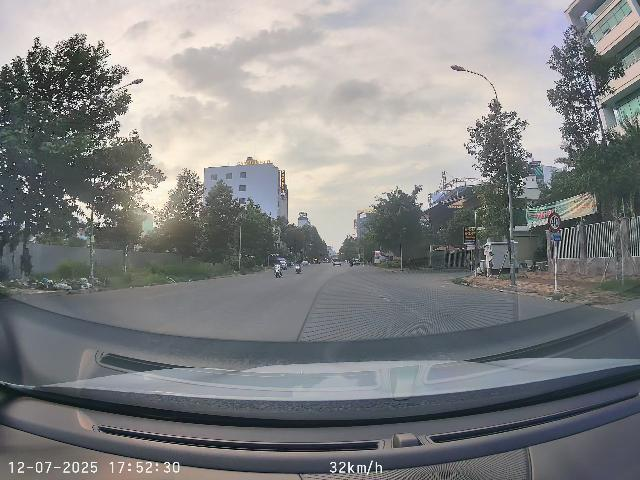127-toc-do-toi-da-40: (548, 212, 561, 232)
